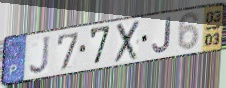6: (176, 10, 203, 53)
7: (55, 30, 81, 72), (89, 25, 112, 68)
J: (28, 34, 52, 76), (151, 16, 173, 55)
X: (113, 18, 142, 65)
